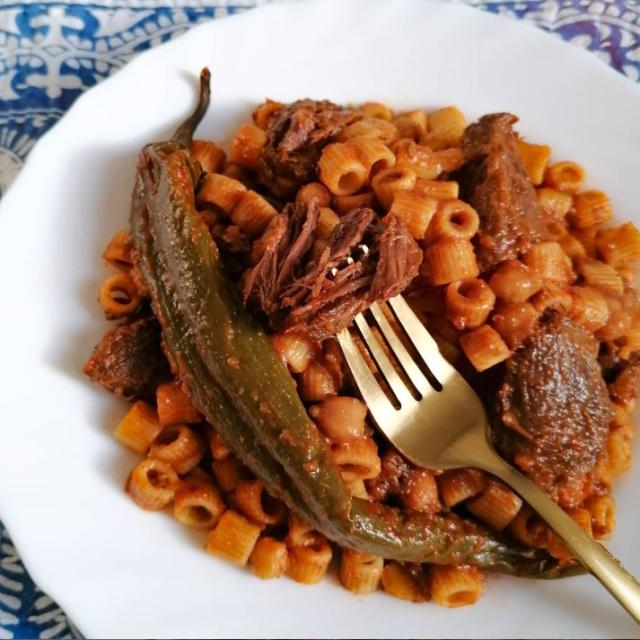Pasta: (70, 66, 640, 601)
